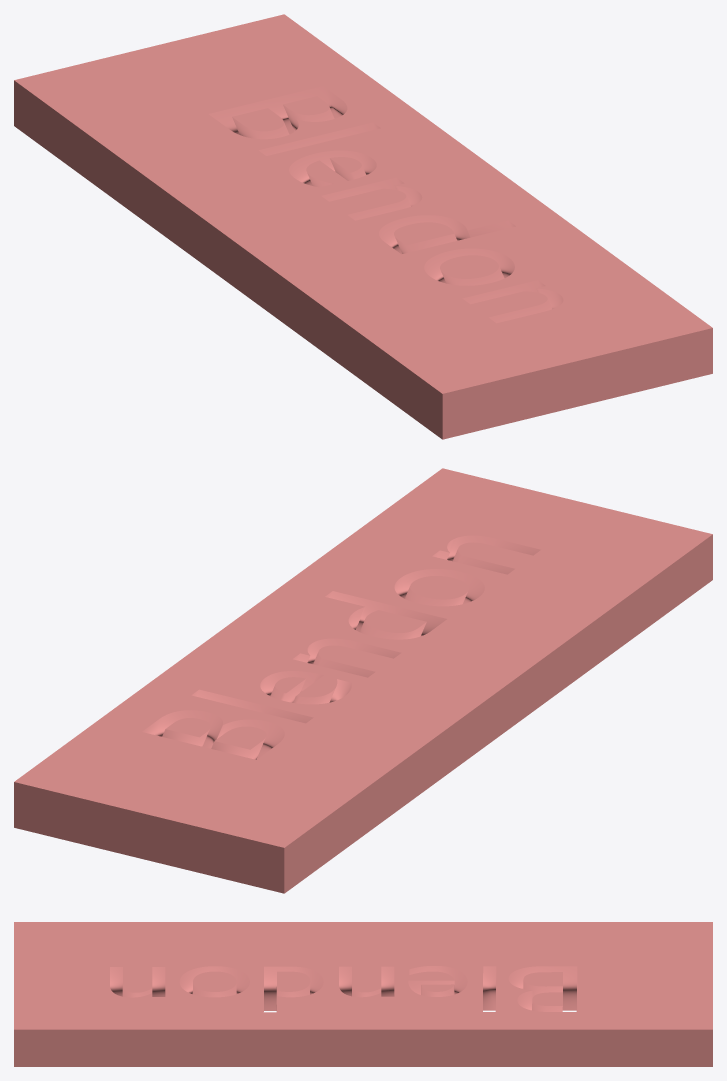
The model's file is TextHole.glb.
The picture shows the model from 3 angles, top to bottom: view 1: azimuth 30°, elevation 25°; view 2: azimuth 150°, elevation 25°; view 3: azimuth 270°, elevation 25°; orthographic projection. The views are drawn at different scales.
Parts seen in each view (by area): view 1: Cube; view 2: Cube; view 3: Cube.
Part boxes in pixels (left/top/right/bottom): Cube: left=14, top=14, right=712, bottom=439; Cube: left=14, top=468, right=712, bottom=893; Cube: left=14, top=922, right=712, bottom=1066.
Size of the model in its own units: 2.32 by 0.3749 by 6.36.
